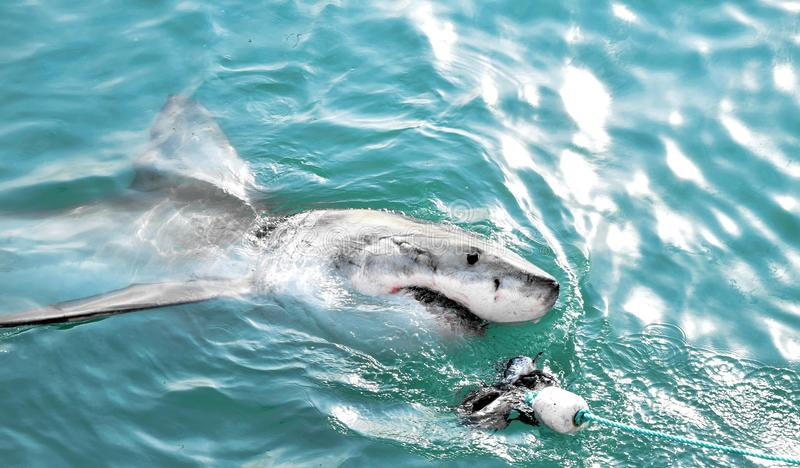shark: (1, 87, 617, 352)
